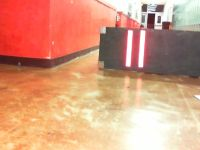switch: (125, 29, 134, 67), (138, 29, 145, 68)
